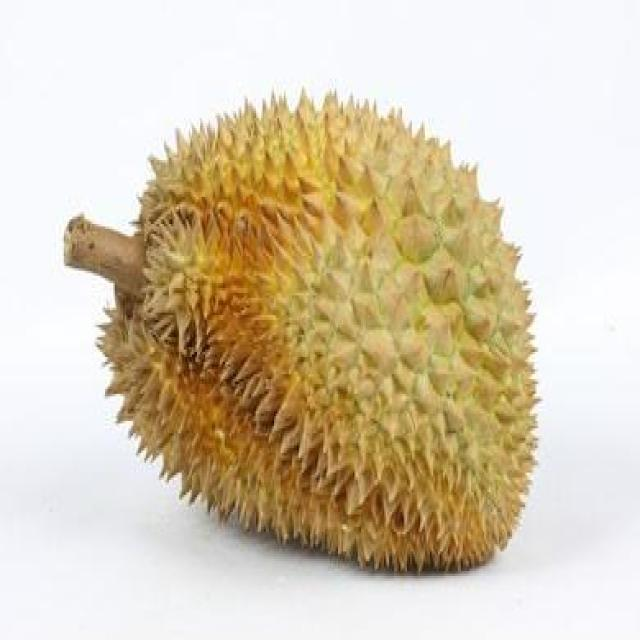mature: (100, 96, 536, 569)
